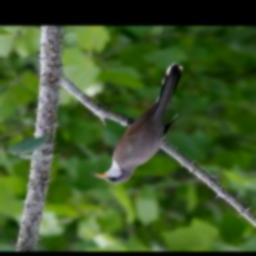Cuckoo: (90, 62, 185, 186)
